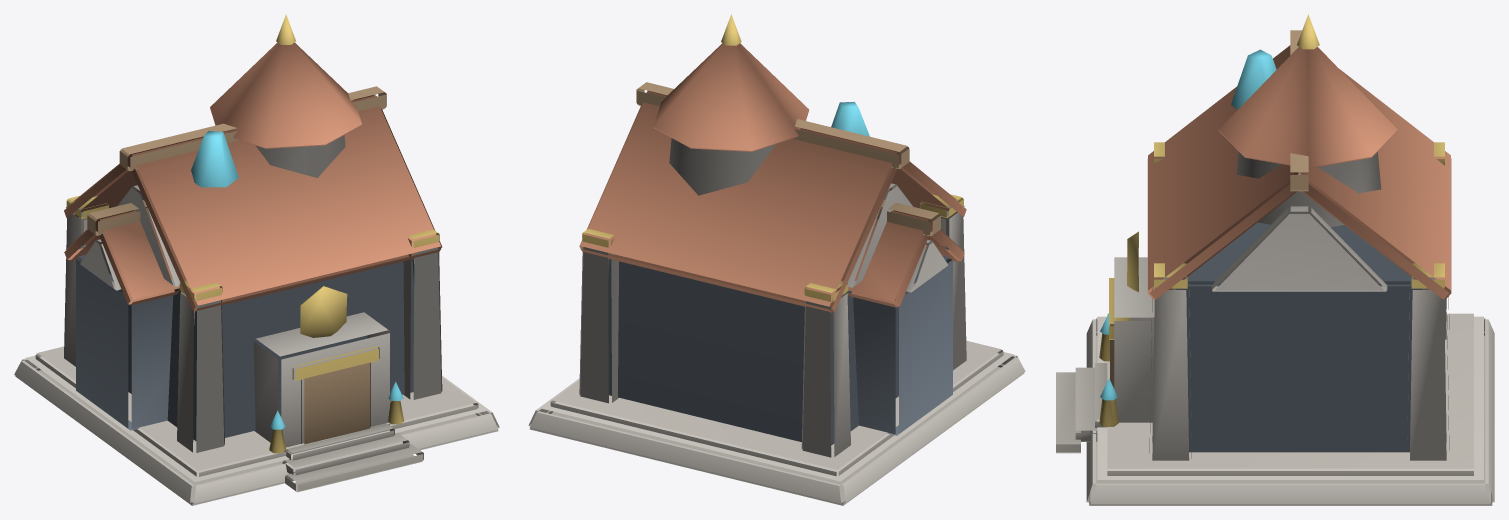
Rendered from core_archive_townhall_lv3_lod2.glb.
3 renders of one model, left to right at view 1: azimuth 30°, elevation 25°; view 2: azimuth 150°, elevation 25°; view 3: azimuth 270°, elevation 25°, orthographic. The views are drawn at different scales.
Visible parts, largest first — view 1: core_archive_townhall_lv3.001; view 2: core_archive_townhall_lv3.001; view 3: core_archive_townhall_lv3.001.
Boxes of the visible parts, x1,y1,x2,y2 form: core_archive_townhall_lv3.001: (14, 14, 499, 505); core_archive_townhall_lv3.001: (528, 14, 1025, 505); core_archive_townhall_lv3.001: (1056, 14, 1494, 505).
Bounding box in the file's own units: 4.71 × 5.35 × 4.99.
